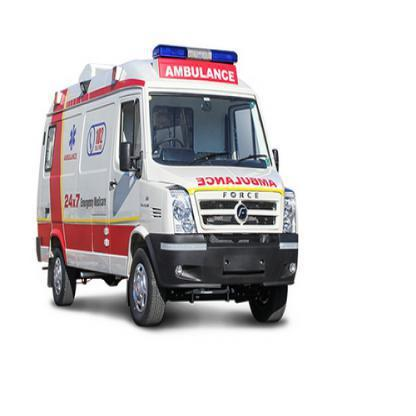Ambulance - v1 Ambulance last generate: (42, 44, 301, 331)
